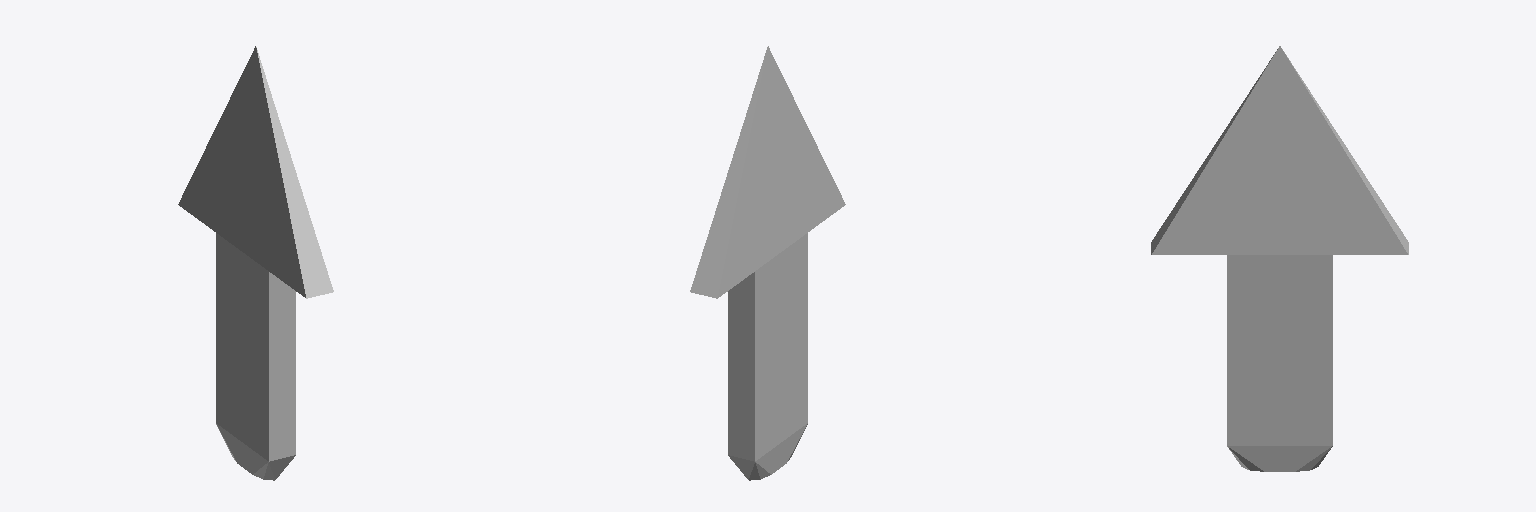
The model's file is riddick_downvote_whole.obj.
The picture shows the model from 3 angles: view 1: azimuth 30°, elevation 25°; view 2: azimuth 150°, elevation 25°; view 3: azimuth 270°, elevation 25°; orthographic projection.
Parts seen in each view (by area): view 1: riddick_downvote_whole:pCube3; view 2: riddick_downvote_whole:pCube3; view 3: riddick_downvote_whole:pCube3.
Part boxes in pixels (bbox=[...]): riddick_downvote_whole:pCube3: bbox=[178, 46, 333, 480]; riddick_downvote_whole:pCube3: bbox=[690, 46, 845, 480]; riddick_downvote_whole:pCube3: bbox=[1151, 46, 1408, 471].
Size of the model in its own units: 0.5 by 7.31 by 4.04.